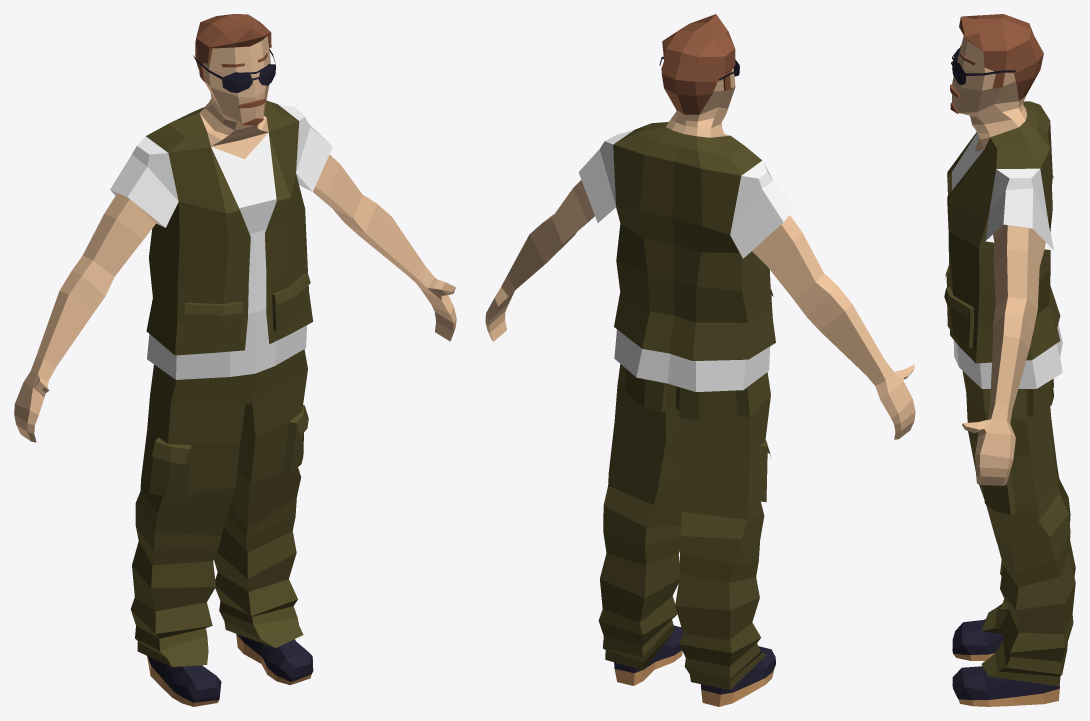
File: male_02_a.fbx
3 views of the same model, side by side, from view 1: azimuth 30°, elevation 25°; view 2: azimuth 150°, elevation 25°; view 3: azimuth 270°, elevation 25° (orthographic). The views are drawn at different scales.
Parts seen in each view (by area): view 1: male_02_a; view 2: male_02_a; view 3: male_02_a.
Boxes of the visible parts, x1,y1,x2,y2 form: male_02_a: (14, 14, 456, 706); male_02_a: (485, 14, 915, 706); male_02_a: (944, 14, 1075, 706).
Bounding box in the file's own units: 127 × 188 × 33.98.
